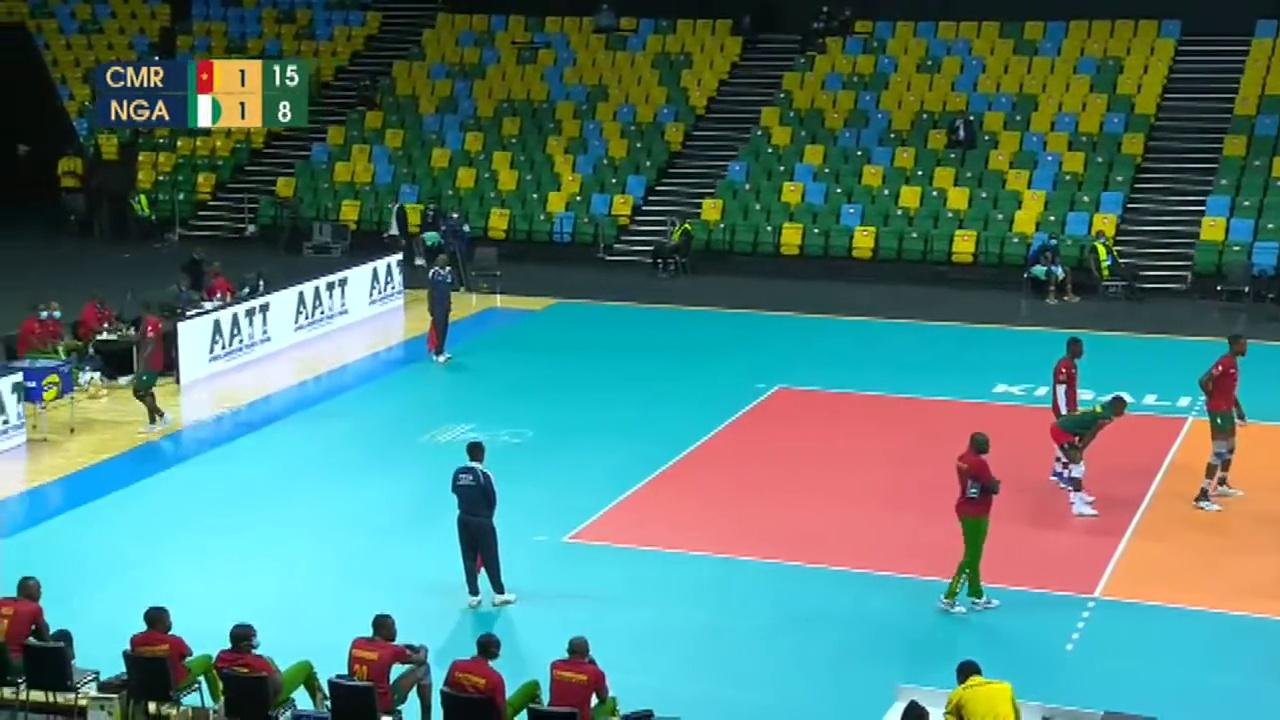player: (1051, 394, 1129, 519), (1198, 335, 1251, 507), (127, 304, 176, 431), (1048, 333, 1086, 484)
refree: (446, 443, 512, 604), (427, 251, 459, 364)
